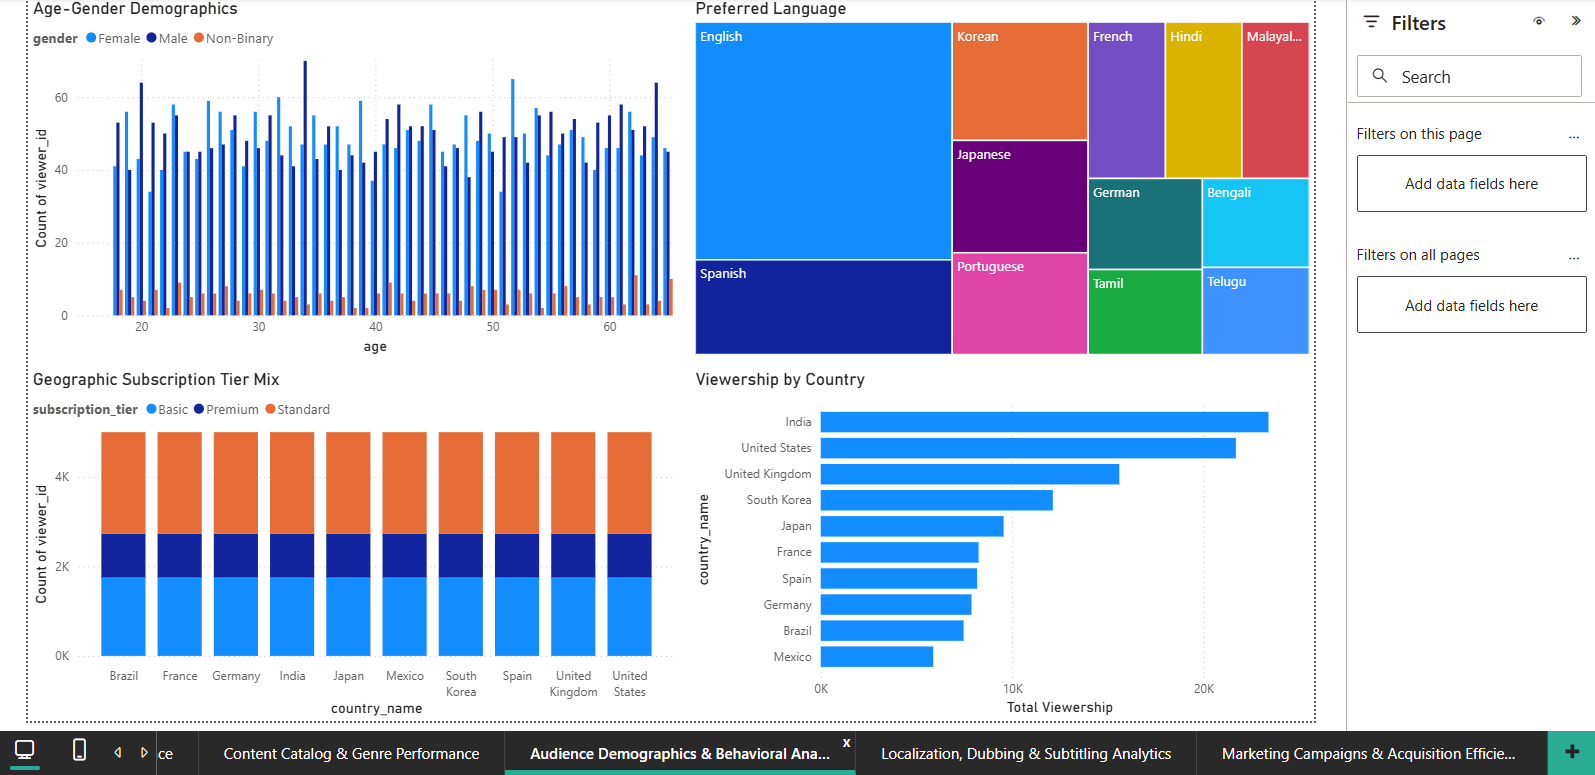

The page's visual inventory and layout, read from the dashboard file:
{"tool":"powerbi","page":{"name":"Audience Demographics & Behavioral Analysis","canvas":[1280,720],"ordinal":2},"visuals":[{"type":"clusteredColumnChart","title":"Age-Gender Demographics","fields":{"Category":["Dim_Viewer.age"],"Y":["CountNonNull(Dim_Viewer.viewer_id)"],"Series":["Dim_Viewer.gender"]},"box":[0,0,649.1,359.5],"z":0},{"type":"columnChart","title":"Geographic Subscription Tier Mix","fields":{"Category":["Dim_Geography.country_name"],"Y":["Count(Dim_Viewer.viewer_id)"],"Series":["Dim_Viewer.subscription_tier"]},"box":[0,370,649,350],"z":1000},{"type":"treemap","title":"Preferred Language","fields":{"Group":["Dim_Language.language_name"],"Values":["Count(Dim_Viewer.viewer_id)"]},"box":[659,0,621,360],"z":2000},{"type":"clusteredBarChart","title":"Viewership by Country","fields":{"Category":["Dim_Geography Production.country_name"],"Y":["Dim_Content.Total Viewership"]},"box":[659,370,621,350],"z":3000}]}

Visuals, with their boxes on the page's 1280x720 design canvas (x1, y1, x2, y2). These are canvas units, not pixel positions in the 1595x775 screenshot, which may show the page scaled, cropped or inside an application window:
"Age-Gender Demographics" clusteredColumnChart: rect(0, 0, 649, 360)
"Geographic Subscription Tier Mix" columnChart: rect(0, 370, 649, 720)
"Preferred Language" treemap: rect(659, 0, 1280, 360)
"Viewership by Country" clusteredBarChart: rect(659, 370, 1280, 720)
